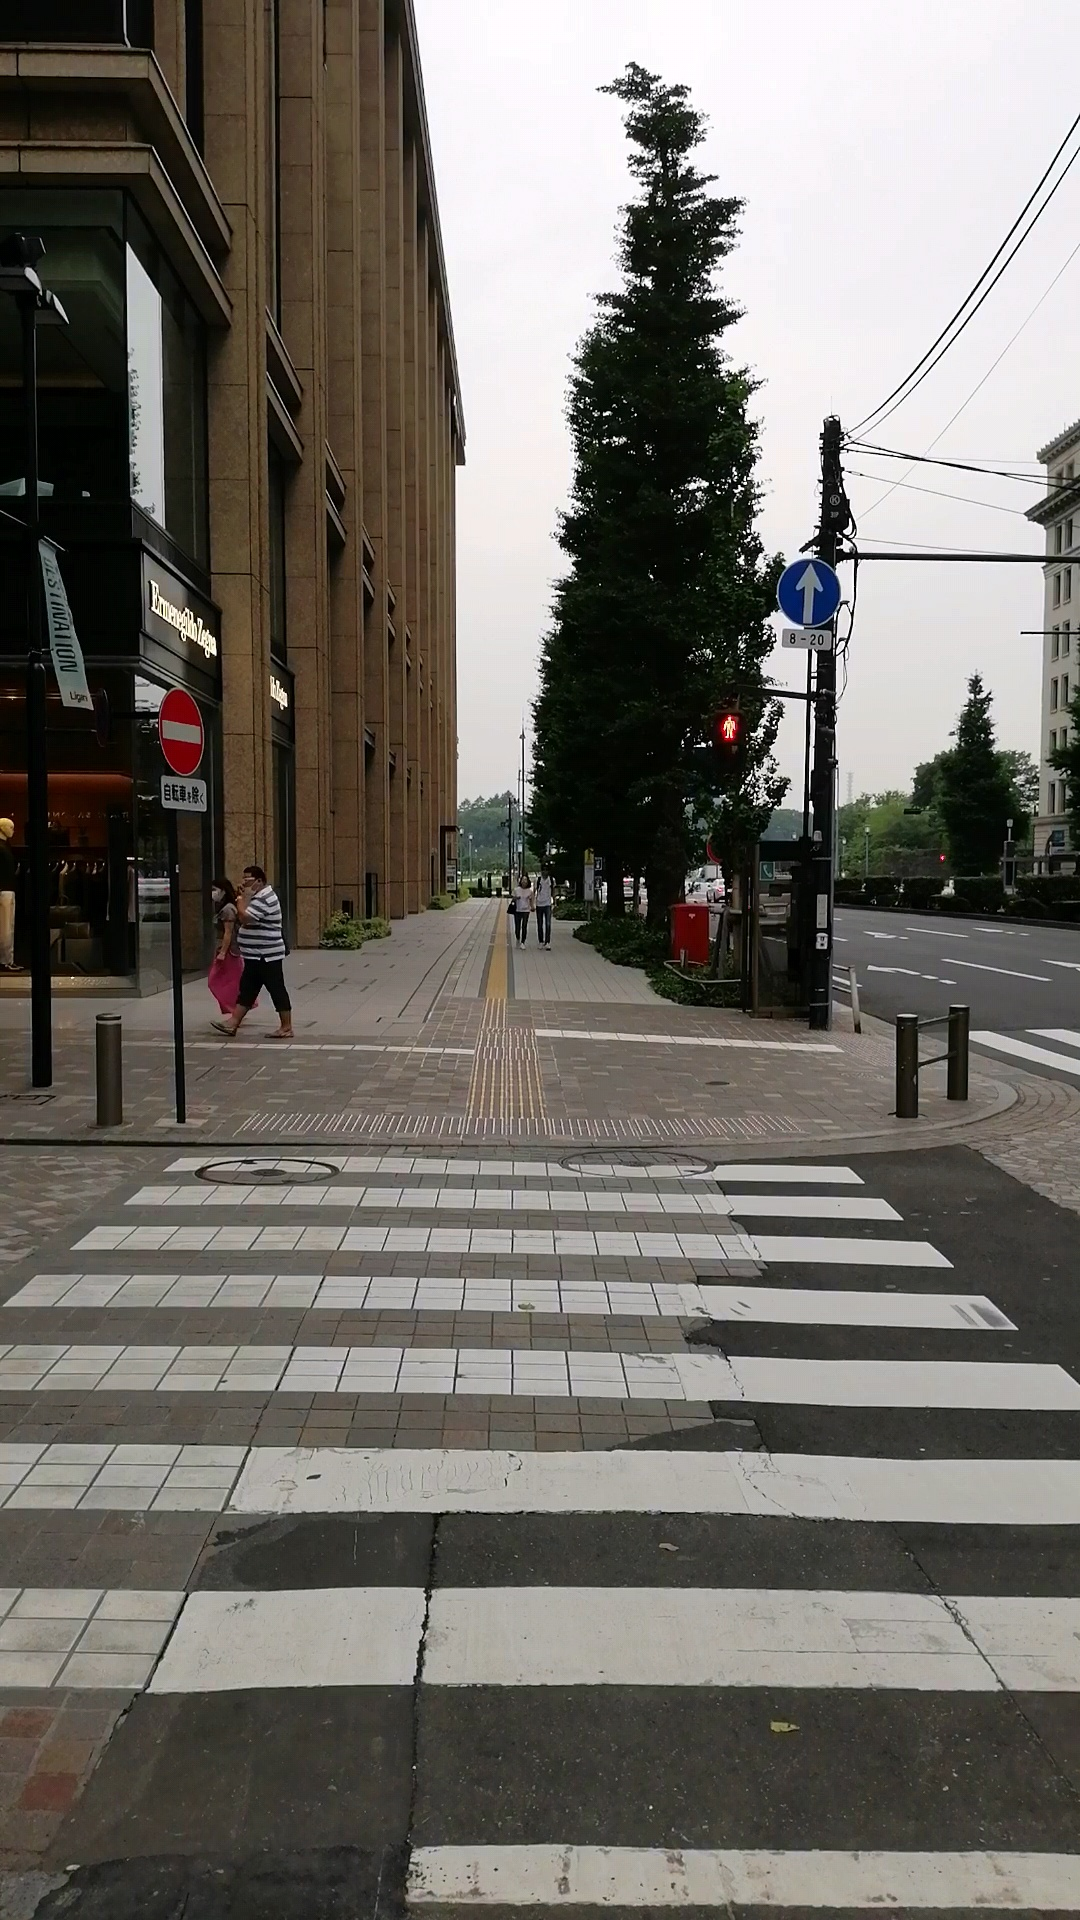red: (713, 707, 746, 771)
